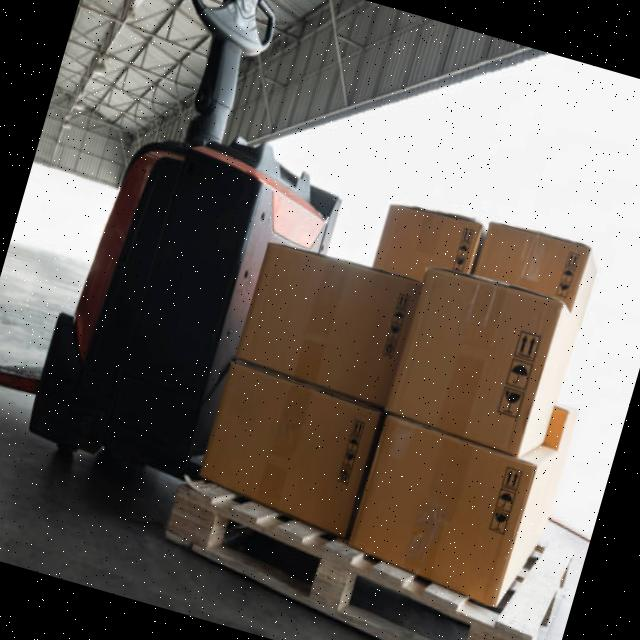Wooden-Pallets: (159, 479, 575, 640)
